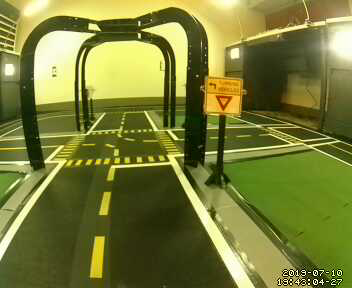Turn Yield: (204, 76, 244, 119)
